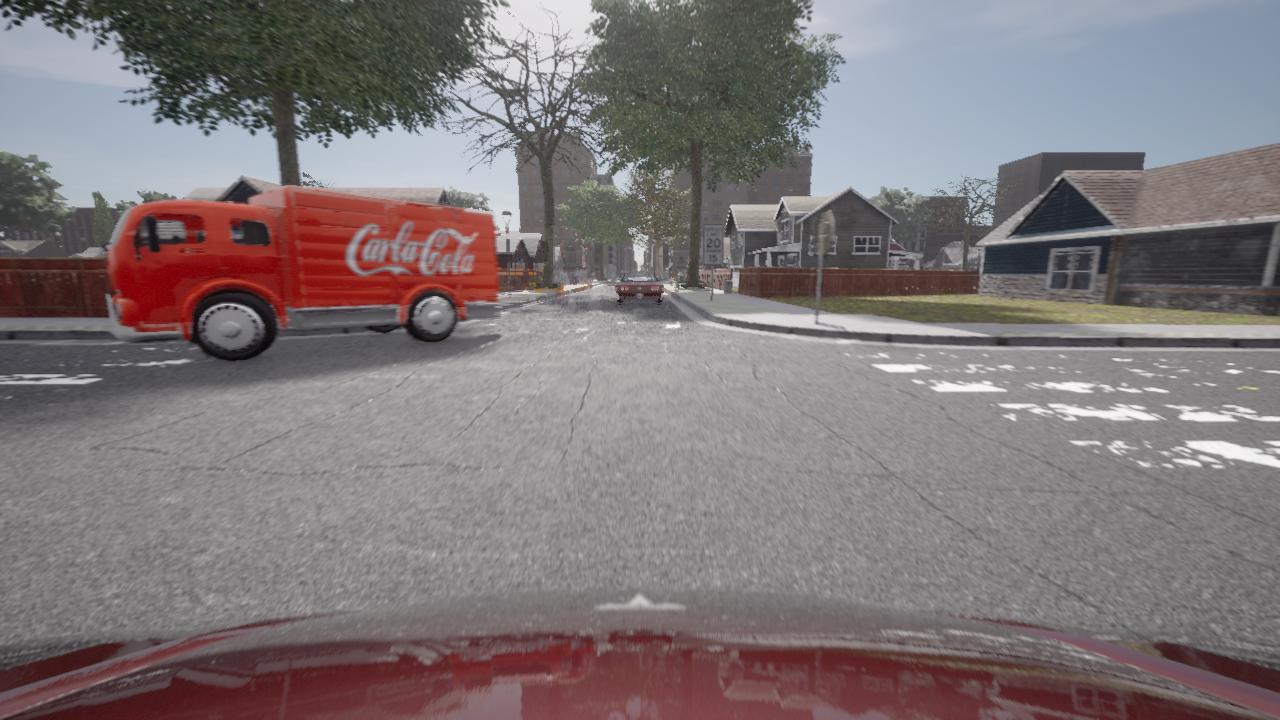cyclist: (0, 588, 1279, 719), (102, 185, 501, 360), (617, 272, 662, 303)
